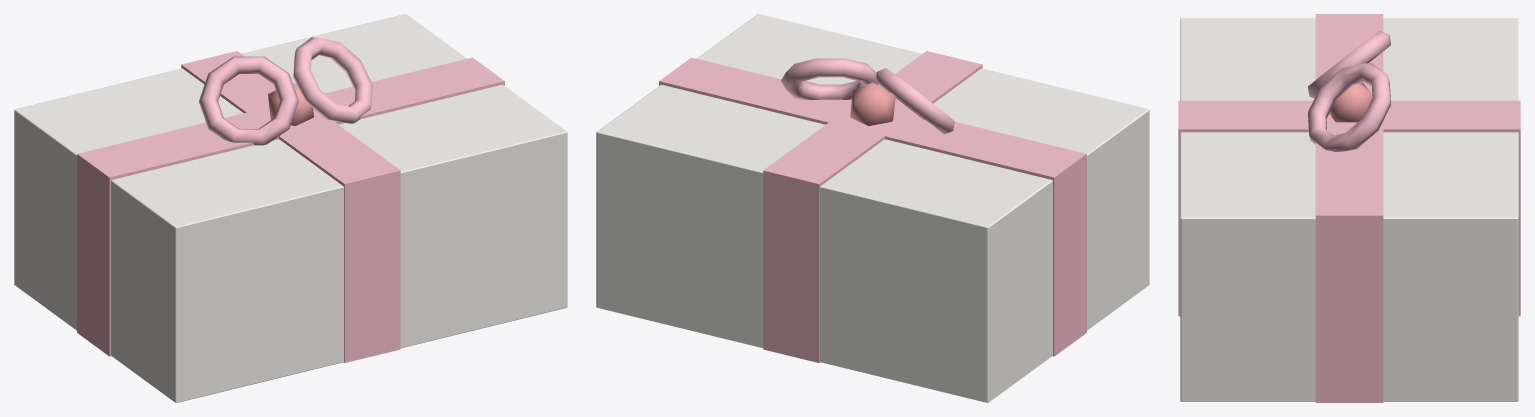
File: delivery-parcel.glb
The picture shows the model from 3 angles, left to right: view 1: azimuth 30°, elevation 25°; view 2: azimuth 150°, elevation 25°; view 3: azimuth 270°, elevation 25°; orthographic projection. The views are drawn at different scales.
Parts seen in each view (by area): view 1: parcel_Box, parcel_RibbonX, parcel_RibbonY, parcel_LoopL, parcel_LoopR, parcel_Knot; view 2: parcel_Box, parcel_RibbonY, parcel_RibbonX, parcel_LoopR, parcel_LoopL, parcel_Knot; view 3: parcel_Box, parcel_RibbonY, parcel_RibbonX, parcel_LoopR, parcel_LoopL, parcel_Knot.
Part boxes in pixels (bbox=[...]): parcel_Box: bbox=[14, 14, 567, 402]; parcel_RibbonX: bbox=[181, 51, 400, 362]; parcel_RibbonY: bbox=[77, 57, 504, 356]; parcel_LoopL: bbox=[199, 56, 298, 145]; parcel_LoopR: bbox=[293, 37, 372, 123]; parcel_Knot: bbox=[268, 83, 313, 125]; parcel_Box: bbox=[596, 14, 1149, 402]; parcel_RibbonY: bbox=[659, 57, 1086, 356]; parcel_RibbonX: bbox=[763, 51, 982, 362]; parcel_LoopR: bbox=[781, 58, 878, 99]; parcel_LoopL: bbox=[875, 68, 954, 134]; parcel_Knot: bbox=[850, 82, 895, 125]; parcel_Box: bbox=[1180, 18, 1518, 401]; parcel_RibbonY: bbox=[1315, 14, 1383, 402]; parcel_RibbonX: bbox=[1178, 100, 1520, 316]; parcel_LoopR: bbox=[1308, 63, 1390, 151]; parcel_LoopL: bbox=[1308, 31, 1390, 98]; parcel_Knot: bbox=[1329, 83, 1372, 122].
Bounding box in the file's own units: 0.282 × 0.1625 × 0.202.
